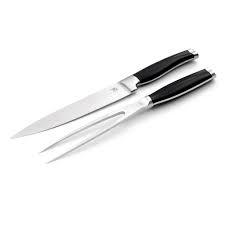knives: (16, 59, 212, 173)
